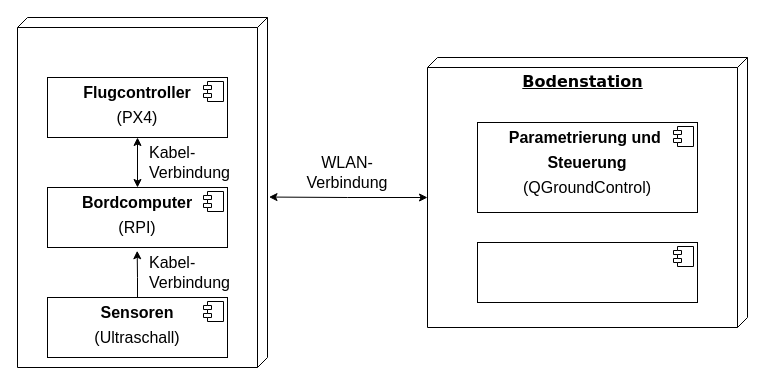
This 765x385 diagram has some shape labels left out. Here are the shapes that lost their labels. From the top down, the box of each, then its label:
(16, 16, 268, 368): Drohne
(476, 242, 698, 302): Zusatzfunktionen (Python-Skripte)
